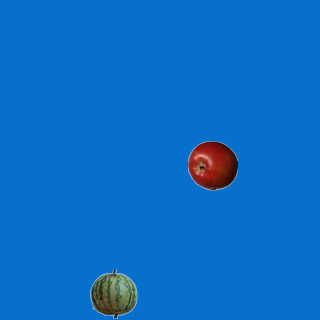Apple Braeburn: (187, 140, 237, 190)
Watermelon: (88, 268, 138, 318)
